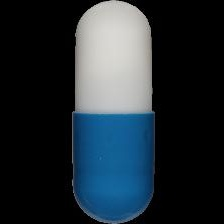50436-9978: (0, 0, 224, 224)
